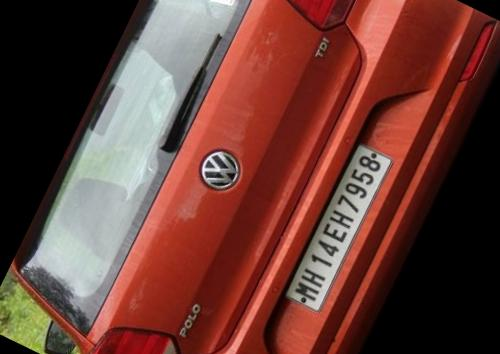plate: (263, 126, 418, 336)
